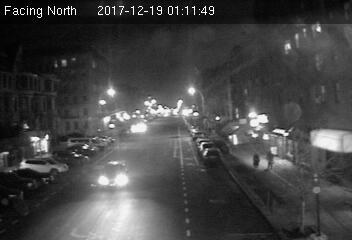car: (97, 159, 129, 192), (203, 147, 222, 163)
